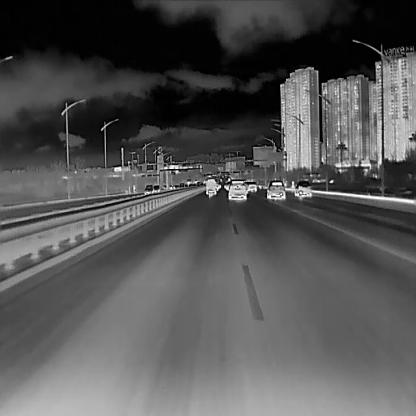car: (266, 180, 285, 200), (228, 180, 246, 200), (294, 180, 311, 196), (205, 177, 216, 195), (246, 182, 256, 192), (144, 184, 152, 194), (152, 184, 158, 192)
